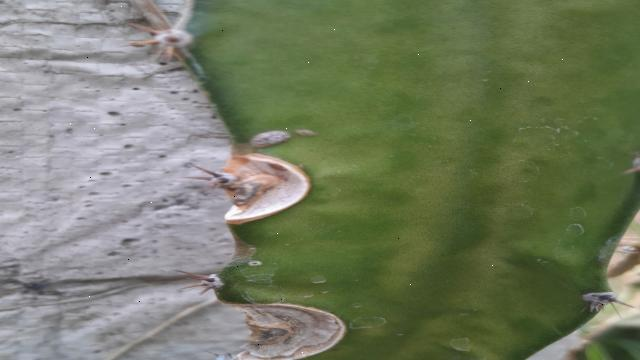stemcanker: (239, 123, 298, 153), (288, 123, 324, 141)
